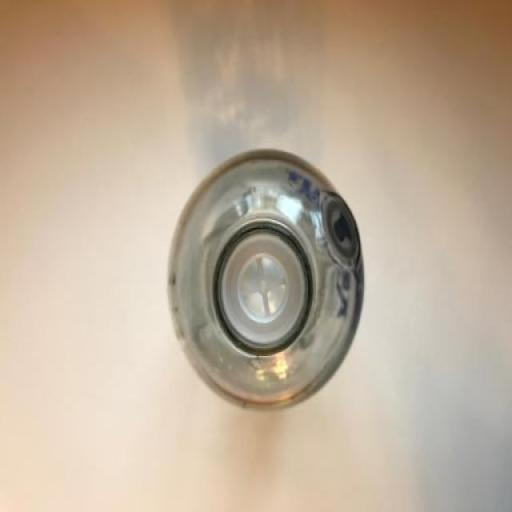glass: (156, 130, 376, 440)
